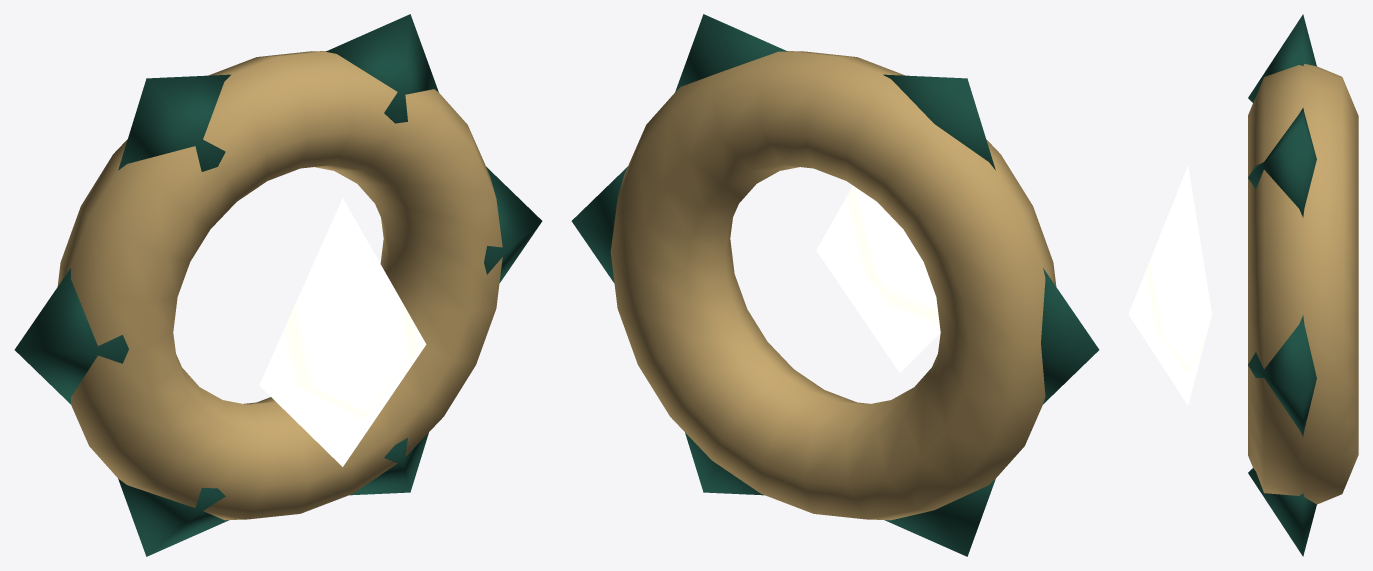
File: boss_serpent_veil_accessory_2.glb
3 renders of one model, left to right at view 1: azimuth 30°, elevation 25°; view 2: azimuth 150°, elevation 25°; view 3: azimuth 270°, elevation 25°, orthographic. The views are drawn at different scales.
Visible parts, largest first — view 1: Boss_serpent_veil_1, Boss_serpent_veil_0, Boss_serpent_veil_2; view 2: Boss_serpent_veil_1, Boss_serpent_veil_0, Boss_serpent_veil_2; view 3: Boss_serpent_veil_1, Boss_serpent_veil_0, Boss_serpent_veil_2.
Part boxes in pixels (bbox=[...]): Boss_serpent_veil_1: bbox=[57, 51, 502, 520]; Boss_serpent_veil_0: bbox=[14, 14, 542, 556]; Boss_serpent_veil_2: bbox=[259, 198, 426, 466]; Boss_serpent_veil_1: bbox=[610, 51, 1056, 520]; Boss_serpent_veil_0: bbox=[571, 14, 1099, 556]; Boss_serpent_veil_2: bbox=[816, 185, 940, 372]; Boss_serpent_veil_1: bbox=[1248, 63, 1358, 504]; Boss_serpent_veil_0: bbox=[1248, 14, 1316, 556]; Boss_serpent_veil_2: bbox=[1128, 165, 1211, 405].
Bounding box in the file's own units: 0.128 × 0.1109 × 0.054.
